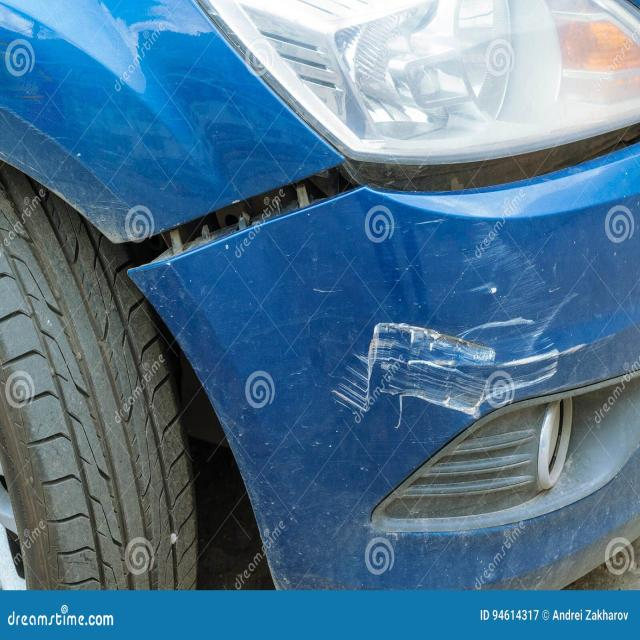misalignment: (117, 123, 640, 269)
scratch: (327, 217, 618, 431), (311, 288, 344, 296)
